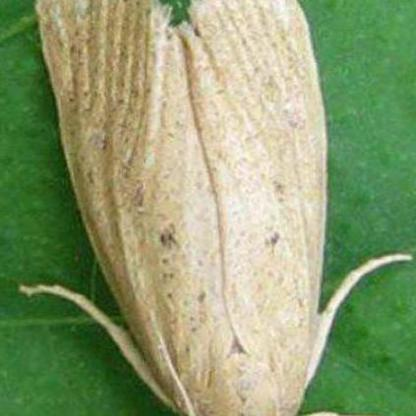stem-borer: (21, 0, 355, 416)
